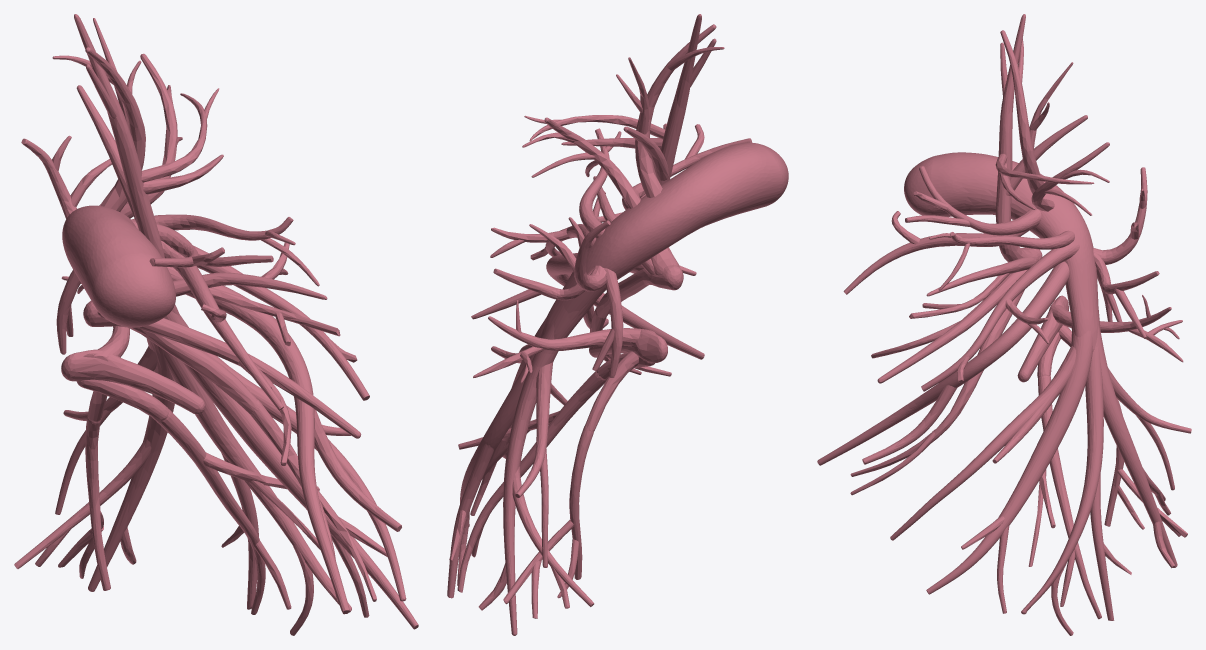
Rendered from cardiovascular-08.glb.
The picture shows the model from 3 angles, left to right: view 1: azimuth 30°, elevation 25°; view 2: azimuth 150°, elevation 25°; view 3: azimuth 270°, elevation 25°; orthographic projection. The views are drawn at different scales.
Visible parts, largest first — view 1: FJ2924, FJ2896, FJ2883, FJ2921, FJ2955, FJ2936, FJ2937, FJ2881, FJ2933, FJ2951, FJ2906, FJ2884 (+30 smaller); view 2: FJ2924, FJ2881, FJ2951, FJ2936, FJ2915, FJ2939, FJ2919, FJ2921, FJ2896, FJ2933, FJ2922, FJ2945 (+19 smaller); view 3: FJ2924, FJ2883, FJ2896, FJ2921, FJ2881, FJ2884, FJ2898, FJ2936, FJ2937, FJ2951, FJ2915, FJ2908 (+21 smaller).
Part boxes in pixels (x1,y1,x2,y2): FJ2924: (62, 205, 179, 327); FJ2896: (167, 267, 349, 614); FJ2883: (164, 311, 418, 629); FJ2921: (164, 351, 351, 612); FJ2955: (61, 349, 205, 414); FJ2936: (74, 14, 164, 258); FJ2937: (136, 318, 361, 438); FJ2881: (88, 338, 174, 591); FJ2933: (83, 300, 260, 415); FJ2951: (156, 409, 265, 614); FJ2906: (161, 240, 283, 410); FJ2884: (187, 326, 406, 601); FJ2924: (540, 142, 788, 339); FJ2881: (503, 322, 558, 635); FJ2951: (457, 371, 606, 592); FJ2936: (658, 14, 701, 184); FJ2915: (635, 24, 716, 197); FJ2939: (488, 316, 655, 350); FJ2919: (515, 362, 553, 497); FJ2921: (460, 335, 543, 526); FJ2896: (546, 253, 704, 359); FJ2933: (596, 264, 683, 318); FJ2922: (447, 444, 493, 598); FJ2945: (569, 425, 593, 579); FJ2924: (904, 152, 1100, 351); FJ2883: (926, 321, 1092, 594); FJ2896: (817, 261, 1069, 465); FJ2921: (1021, 342, 1103, 614); FJ2881: (1096, 324, 1177, 567); FJ2884: (890, 346, 1076, 540); FJ2898: (921, 241, 1079, 391); FJ2936: (995, 14, 1025, 223); FJ2937: (877, 271, 1023, 383); FJ2951: (1038, 376, 1101, 619); FJ2915: (1000, 30, 1043, 193); FJ2908: (919, 166, 1041, 235).
Bounding box in the file's own units: 0.1107 × 0.2328 × 0.1491.
